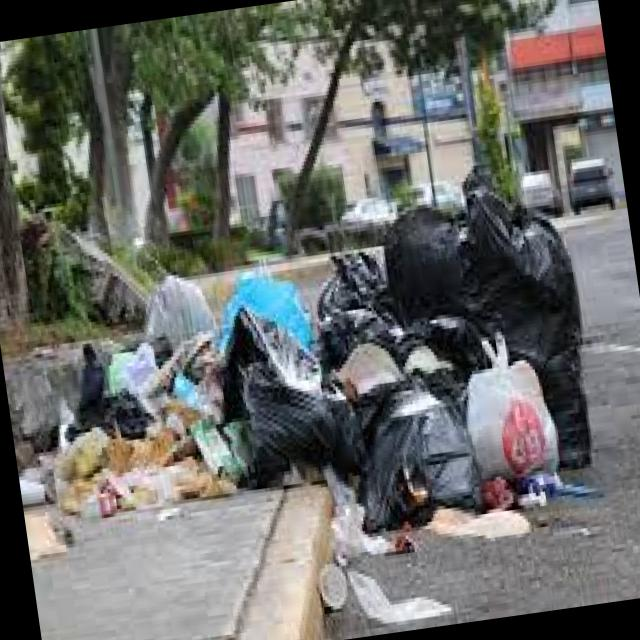garbage: (0, 161, 631, 640)
